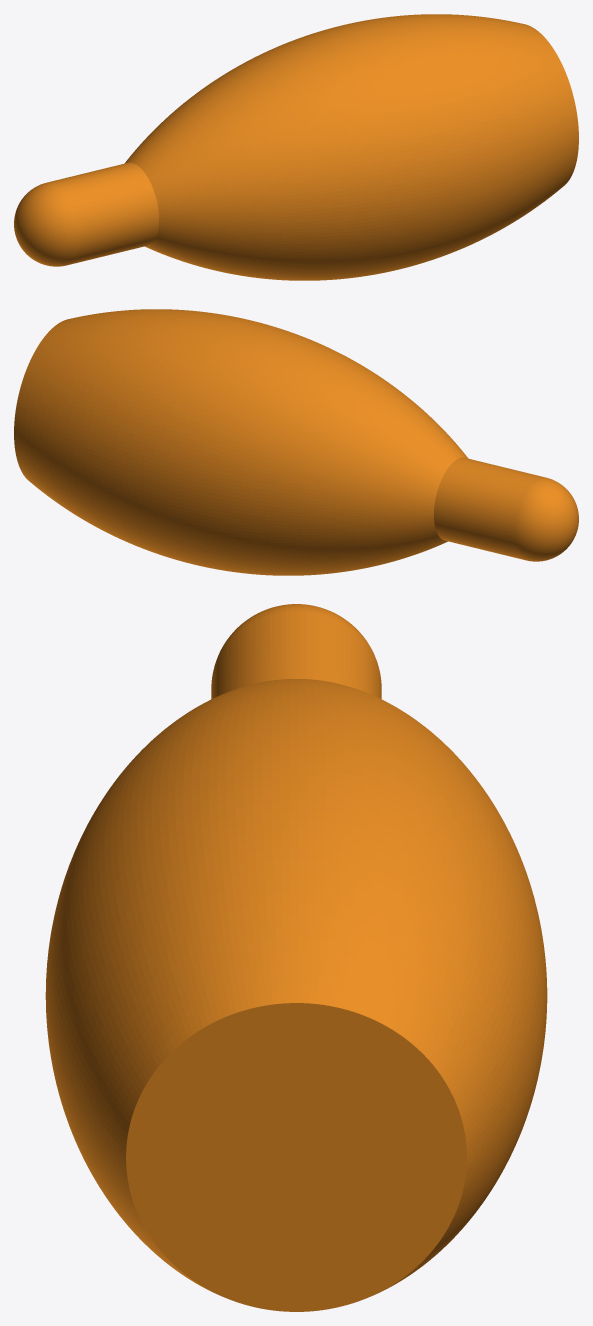
3 renders of one model, top to bottom at view 1: azimuth 30°, elevation 25°; view 2: azimuth 150°, elevation 25°; view 3: azimuth 270°, elevation 25°, orthographic. The views are drawn at different scales.
Parts seen in each view (by area): view 1: S1_BOWL_PIN.stl; view 2: S1_BOWL_PIN.stl; view 3: S1_BOWL_PIN.stl.
Part boxes in pixels (bbox=[...]): S1_BOWL_PIN.stl: bbox=[14, 14, 578, 280]; S1_BOWL_PIN.stl: bbox=[14, 309, 578, 575]; S1_BOWL_PIN.stl: bbox=[45, 604, 547, 1311].
Size of the model in its own units: 70 by 29.42 by 29.42.
